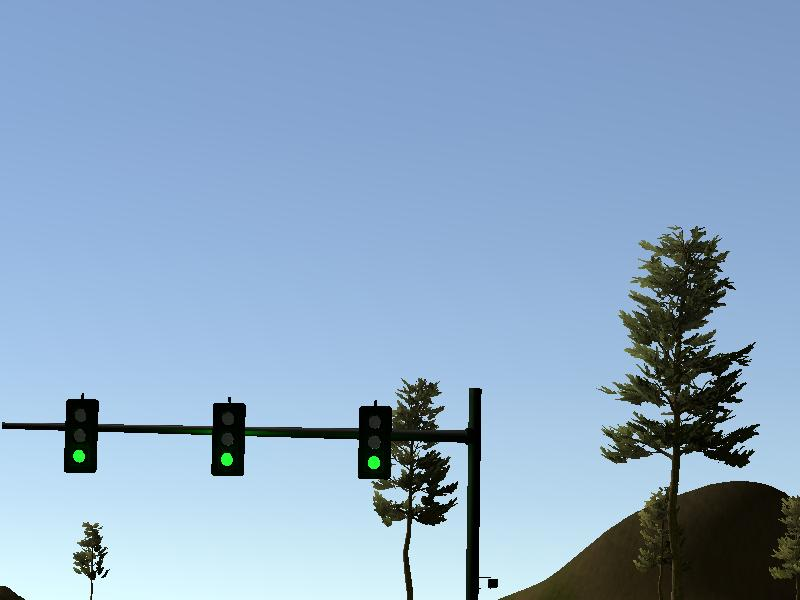green: (64, 397, 99, 474), (211, 401, 246, 478), (356, 403, 391, 480)
